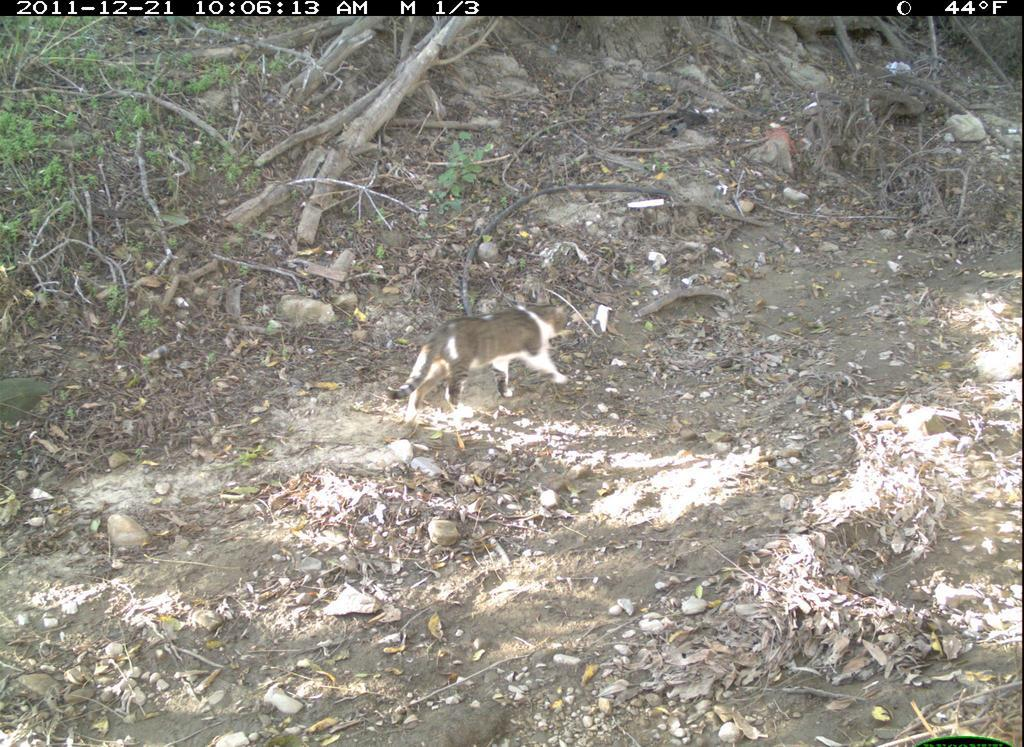cat: (382, 291, 588, 440)
